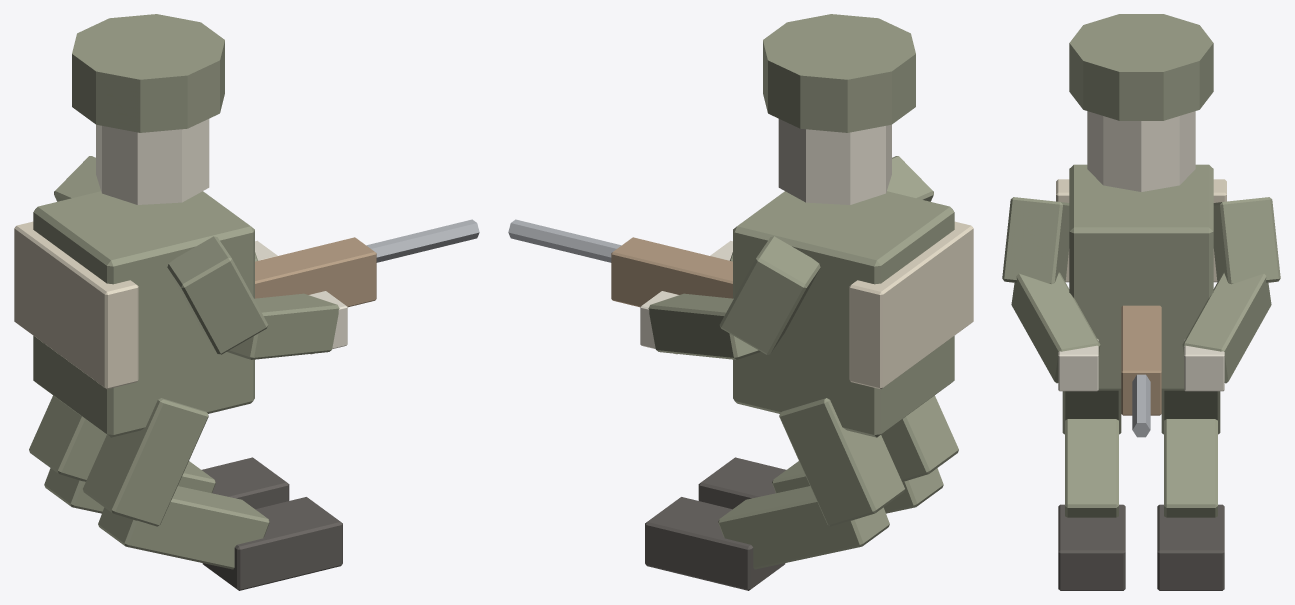
Rendered from infantry_cover.glb.
3 renders of one model, left to right at view 1: azimuth 30°, elevation 25°; view 2: azimuth 150°, elevation 25°; view 3: azimuth 270°, elevation 25°, orthographic. The views are drawn at different scales.
Visible parts, largest first — view 1: Jacket, Helmet, Webbing, Upper leg, Face, Lower leg, Boot, Upper sleeve, Rifle stock, Lower sleeve, Upper leg.001, Boot.001 (+4 smaller); view 2: Jacket, Helmet, Webbing, Upper leg.001, Face, Lower leg.001, Boot.001, Upper sleeve.001, Rifle stock, Lower sleeve.001, Upper leg, Boot (+4 smaller); view 3: Jacket, Helmet, Face, Lower leg, Lower leg.001, Boot, Boot.001, Upper sleeve, Upper sleeve.001, Lower sleeve, Lower sleeve.001, Rifle stock (+6 smaller).
Part boxes in pixels (x1,y1,x2,y2): Jacket: (33, 191, 254, 437); Helmet: (72, 14, 224, 132); Webbing: (14, 221, 138, 389); Upper leg: (83, 398, 208, 526); Face: (96, 119, 209, 204); Lower leg: (98, 486, 269, 569); Boot: (202, 497, 342, 590); Upper sleeve: (167, 236, 268, 354); Rifle stock: (255, 237, 376, 307); Lower sleeve: (227, 293, 339, 359); Upper leg.001: (29, 395, 106, 481); Boot.001: (202, 457, 289, 509); Jacket: (733, 191, 954, 437); Helmet: (763, 14, 915, 132); Webbing: (849, 221, 973, 389); Upper leg.001: (779, 398, 904, 526); Face: (778, 119, 891, 204); Lower leg.001: (718, 486, 889, 569); Boot.001: (645, 497, 785, 590); Upper sleeve.001: (719, 236, 820, 354); Rifle stock: (611, 237, 732, 307); Lower sleeve.001: (648, 293, 760, 359); Upper leg: (881, 395, 958, 481); Boot: (698, 457, 785, 509); Jacket: (1069, 164, 1213, 390); Helmet: (1069, 14, 1213, 120); Face: (1087, 111, 1195, 191); Lower leg: (1065, 419, 1118, 517); Lower leg.001: (1164, 419, 1217, 517); Boot: (1058, 504, 1125, 590); Boot.001: (1157, 504, 1224, 590); Upper sleeve: (1002, 197, 1069, 283); Upper sleeve.001: (1213, 197, 1280, 283); Lower sleeve: (1011, 272, 1100, 383); Lower sleeve.001: (1182, 272, 1271, 383); Rifle stock: (1121, 305, 1161, 415).
Size of the model in its own units: 0.098 by 0.118 by 0.0619.
